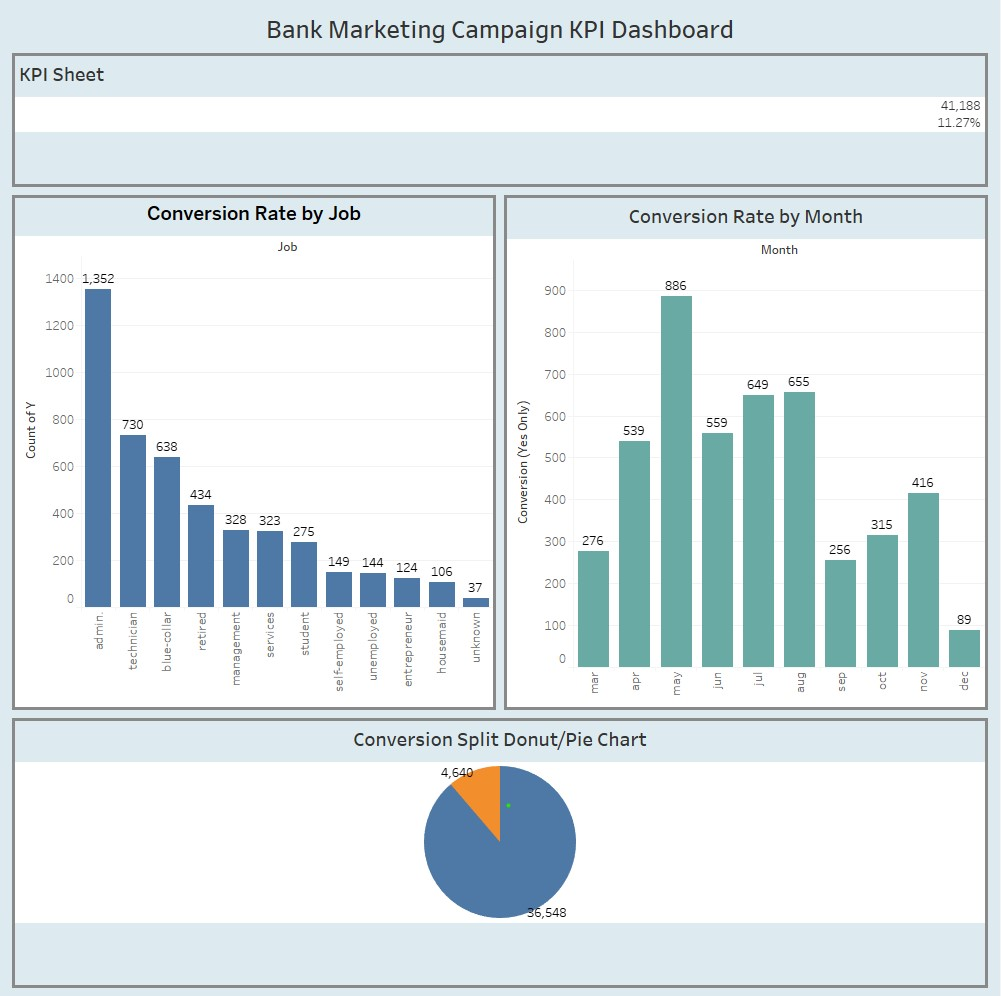

This screenshot's page, from the dashboard's own definition file:
{"tool":"tableau","page":{"name":"Bank Marketing Campaign KPI Dashboard","canvas":[1000,1000],"ordinal":0},"visuals":[{"type":"title","box":[8,8,984,41]},{"type":"worksheet","title":"KPI Sheet","mark":"Automatic","box":[8,49,984,142.1]},{"type":"worksheet","title":"Conversion Rate by Job","mark":"Automatic","rows":["y"],"cols":["job"],"box":[8,191.1,492,522.9]},{"type":"worksheet","title":"Conversion Rate by Month","mark":"Automatic","rows":["Calculation_246853558499835908"],"cols":["month"],"box":[500,191.1,492,522.9]},{"type":"worksheet","title":"Conversion Split Donut/Pie Chart","mark":"Pie","box":[8,714,984,278]}]}

Visuals, with their boxes in screenshot pixels (x1, y1, x2, y2), scaled from the page's 1000x1000 canvas onto the 1001x996 screenshot:
title: (x1=8, y1=8, x2=993, y2=49)
"KPI Sheet" worksheet: (x1=8, y1=49, x2=993, y2=190)
"Conversion Rate by Job" worksheet: (x1=8, y1=190, x2=500, y2=711)
"Conversion Rate by Month" worksheet: (x1=500, y1=190, x2=993, y2=711)
"Conversion Split Donut/Pie Chart" worksheet (Pie marks): (x1=8, y1=711, x2=993, y2=988)
